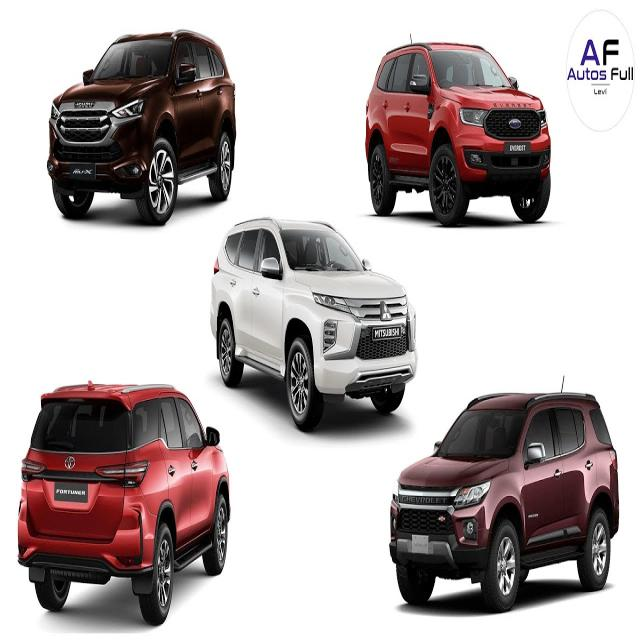SUV: (19, 386, 231, 629), (386, 388, 616, 610), (208, 212, 416, 429), (50, 25, 240, 221), (361, 42, 548, 230)
